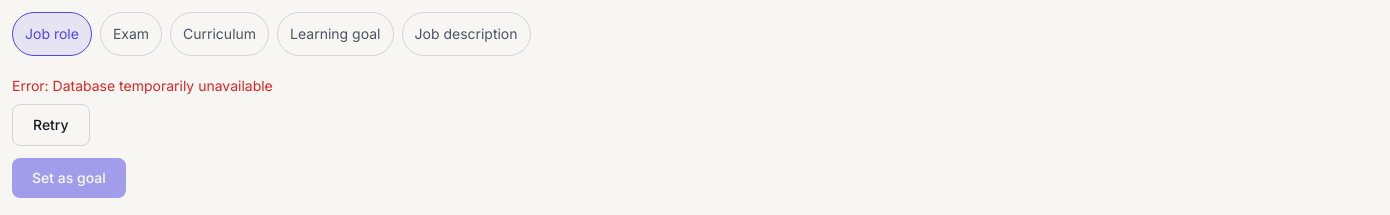
Test: offline goal choices › shows a failed load and retries instead of leaving an empty dropdown
Expected: the message "Error: Database temporarily unavailable" is shown, [12,77,273,94]
Click the button "Retry": (51, 125) [12,104,90,146]
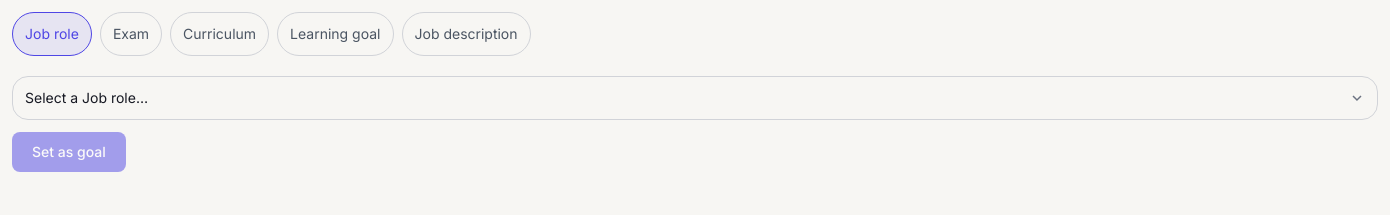
Result: the dropdown named "Select a Job role…" is shown at [12,76,1378,120]
